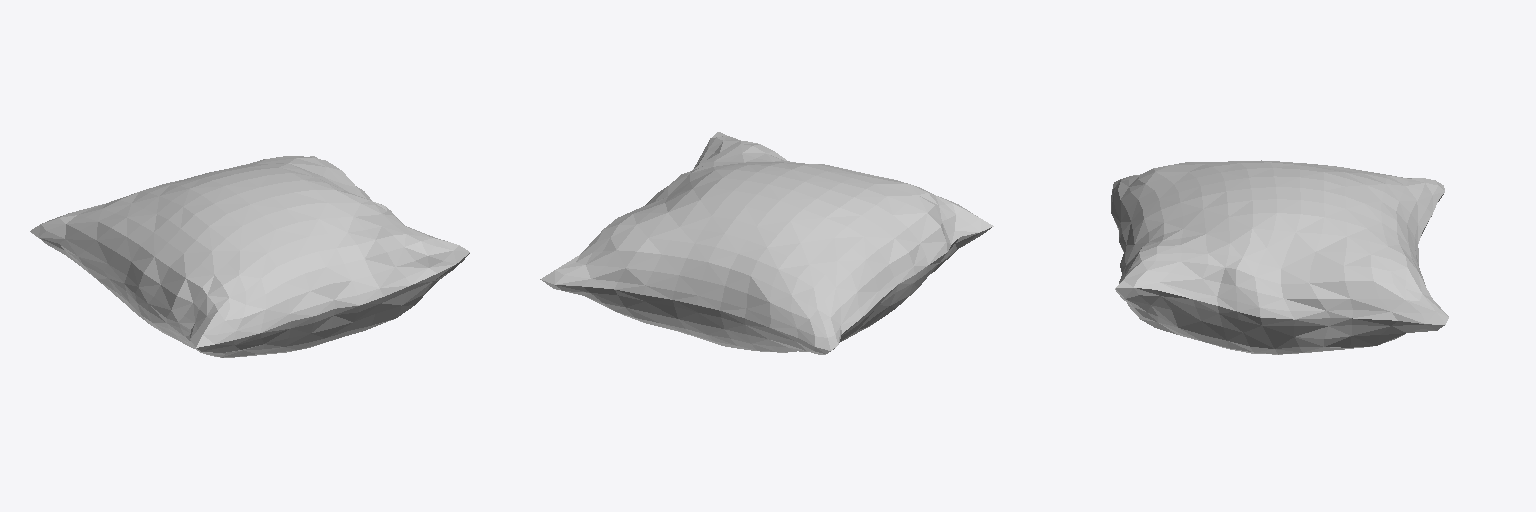
File: Pillow.obj
The picture shows the model from 3 angles: view 1: azimuth 30°, elevation 25°; view 2: azimuth 150°, elevation 25°; view 3: azimuth 270°, elevation 25°; orthographic projection.
Parts seen in each view (by area): view 1: ImageSr, ImageHolder, BackSide; view 2: ImageSr, ImageHolder, BackSide; view 3: ImageSr, ImageHolder, BackSide.
Part boxes in pixels (bbox=[...]): ImageSr: bbox=[30, 156, 469, 347]; ImageHolder: bbox=[132, 158, 380, 274]; BackSide: bbox=[32, 233, 469, 357]; ImageSr: bbox=[541, 132, 993, 350]; ImageHolder: bbox=[637, 153, 907, 263]; BackSide: bbox=[540, 227, 991, 354]; ImageSr: bbox=[1111, 162, 1448, 324]; ImageHolder: bbox=[1157, 160, 1370, 253]; BackSide: bbox=[1114, 194, 1444, 354].
Size of the model in its own units: 0.7141 by 0.3287 by 0.723.